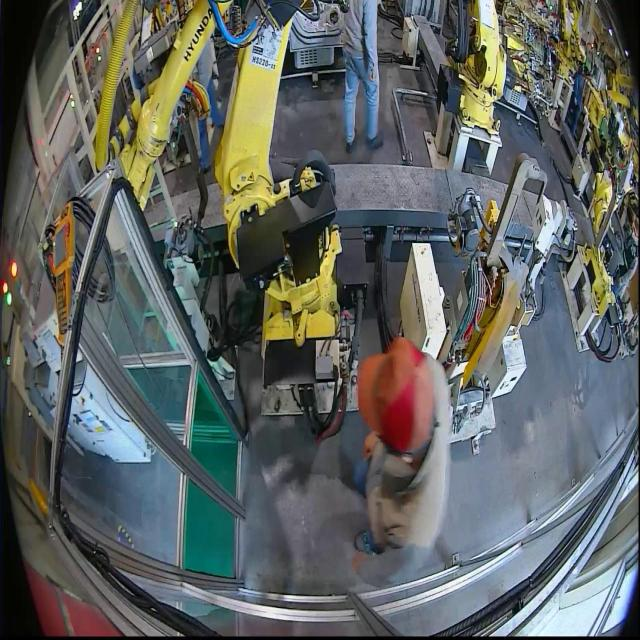Person: (352, 336, 452, 559), (340, 0, 383, 153), (190, 35, 220, 175), (569, 64, 584, 142)
